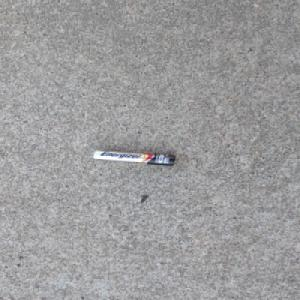Battery: (89, 150, 177, 167)
